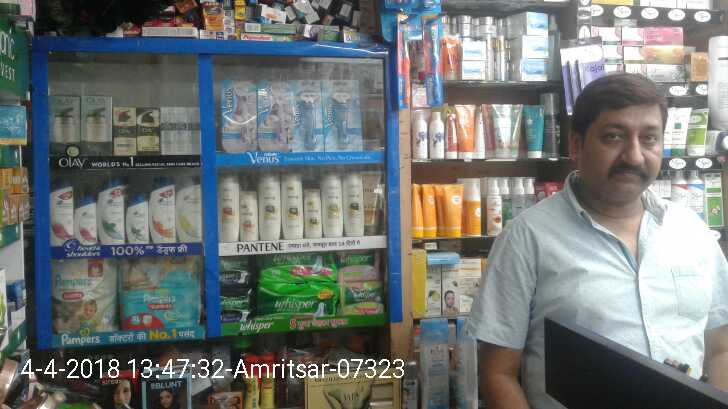venus: (323, 79, 362, 151), (288, 81, 323, 151), (222, 82, 257, 150), (257, 81, 288, 149)
